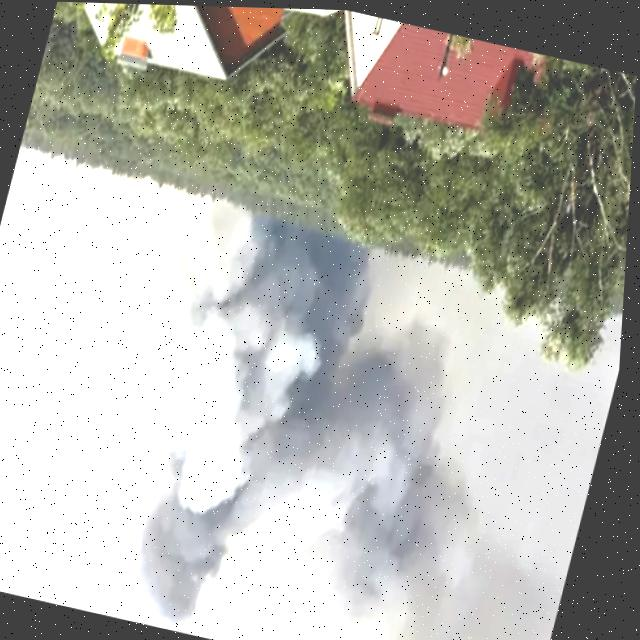Smoke: (98, 207, 517, 640)
